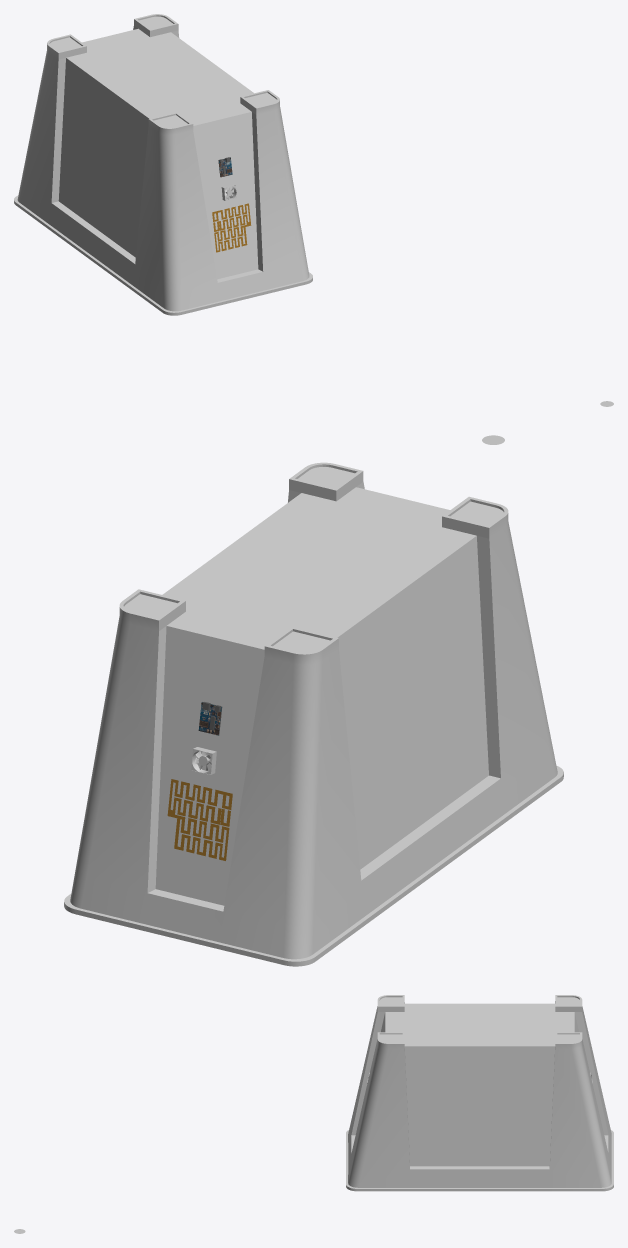
The model's file is ver1.3.fbx.
3 views of the same model, one above another, from view 1: azimuth 30°, elevation 25°; view 2: azimuth 150°, elevation 25°; view 3: azimuth 270°, elevation 25° (orthographic). The views are drawn at different scales.
Visible parts, largest first — view 1: Cube, Plane.001; view 2: Cube, Plane.001; view 3: Cube.
Part boxes in pixels (bbox=[...]): Cube: bbox=[14, 14, 312, 315]; Plane.001: bbox=[212, 203, 251, 252]; Cube: bbox=[64, 462, 563, 966]; Plane.001: bbox=[167, 779, 232, 860]; Cube: bbox=[346, 995, 613, 1191].
Size of what is drawn, in the model's own units: 446 by 295 by 1119.
